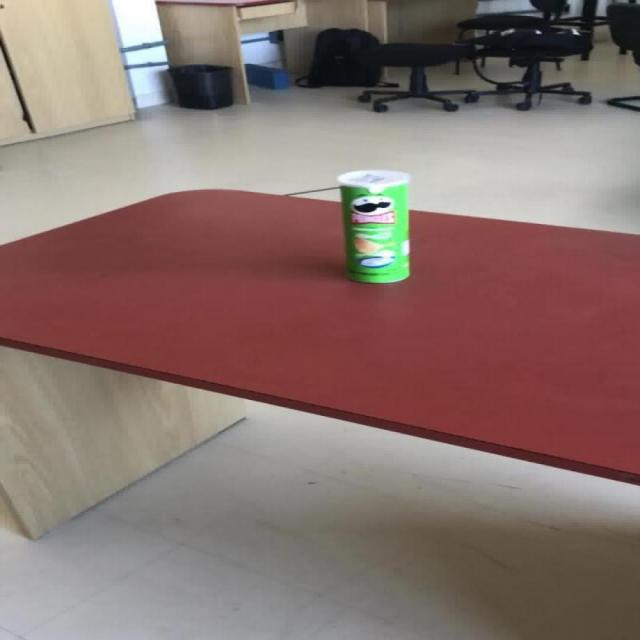Pringles: (335, 169, 410, 283)
